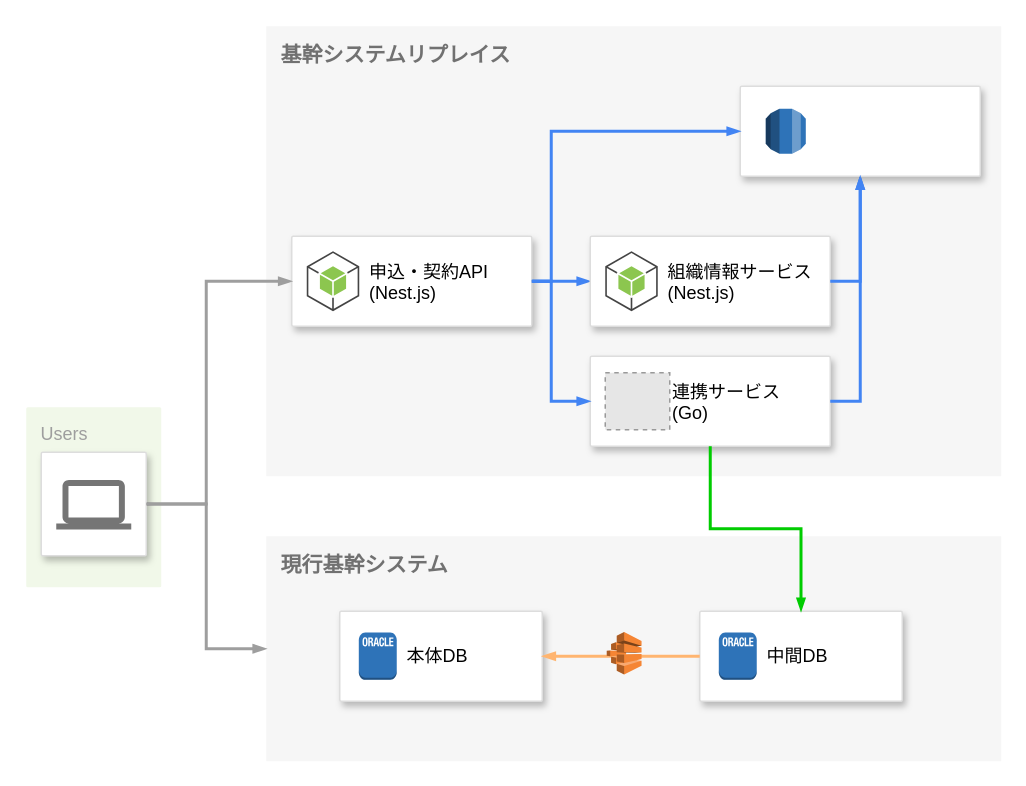
Some shapes in this 1026 by 786 pixel diagram are drawn without their labels. Grey dashed boxes stand in for pictures. The centre of each missing label's shape, as x and y in pixels:
Batch: the point at 623,653
DB: the point at 785,130
